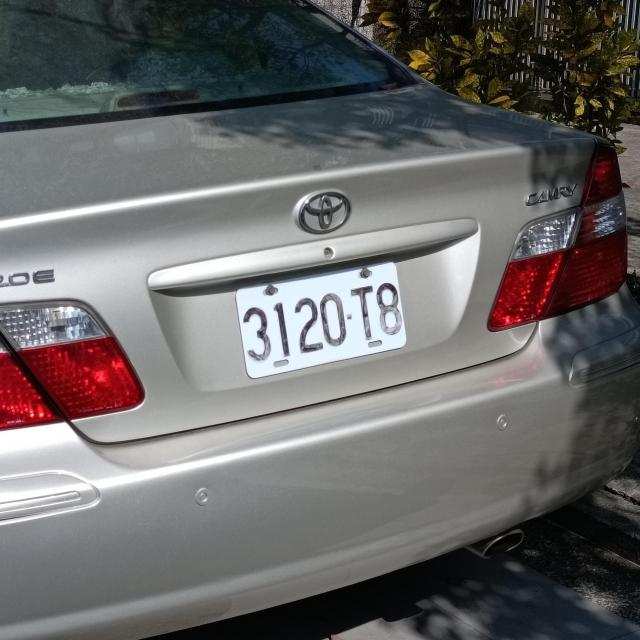W: (233, 260, 411, 380)
